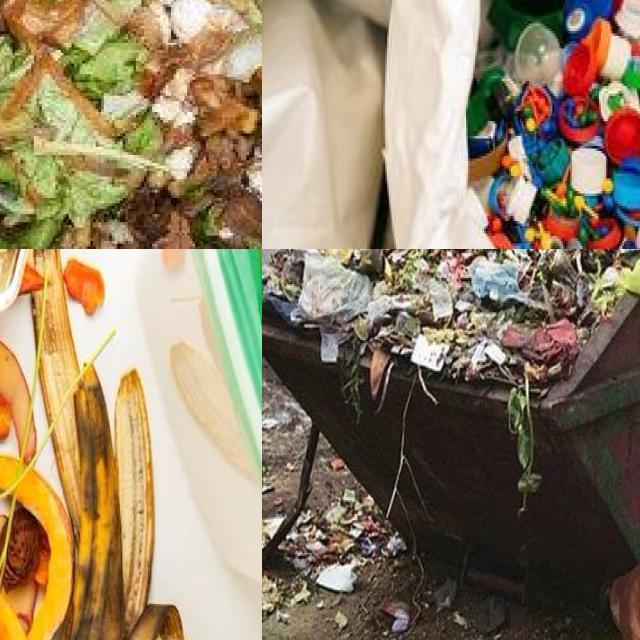Garbage: (262, 249, 640, 508), (0, 249, 216, 640), (466, 0, 640, 249)
Plastic: (467, 0, 640, 249)
Plastic_Bag: (298, 257, 370, 323), (470, 257, 545, 307), (592, 257, 640, 301)
